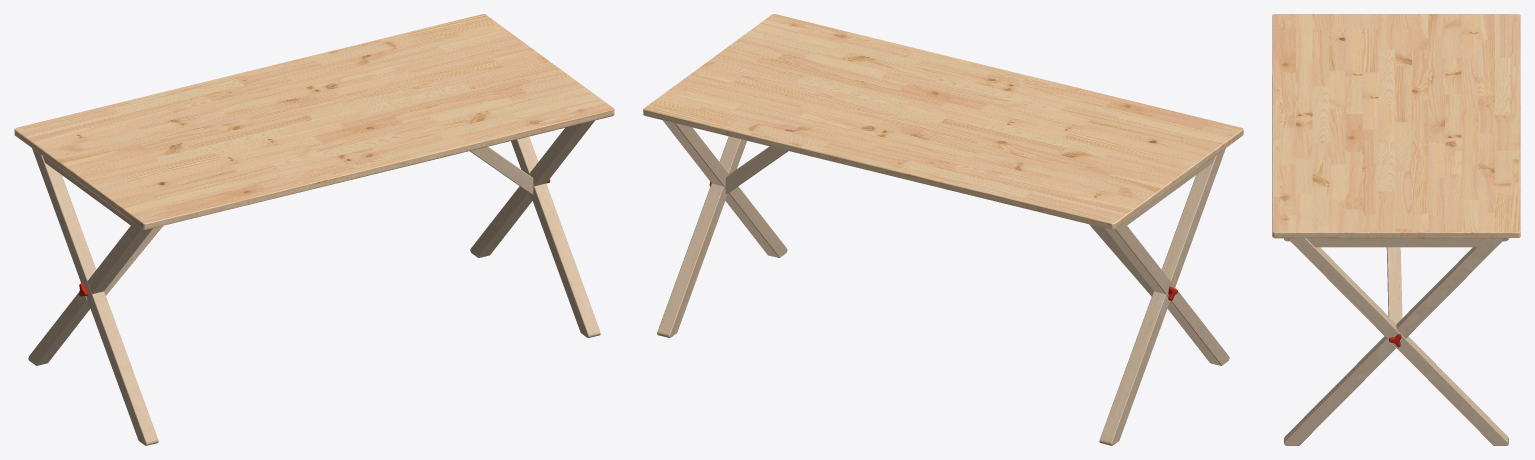
3 views of the same model, side by side, from view 1: azimuth 30°, elevation 25°; view 2: azimuth 150°, elevation 25°; view 3: azimuth 270°, elevation 25° (orthographic). The views are drawn at different scales.
Parts seen in each view (by area): view 1: ASY_ART_00617861_S01_NV01; view 2: ASY_ART_00617861_S01_NV01; view 3: ASY_ART_00617861_S01_NV01.
Part boxes in pixels (x1,y1,x2,y2): ASY_ART_00617861_S01_NV01: [14, 14, 614, 445]; ASY_ART_00617861_S01_NV01: [643, 14, 1243, 445]; ASY_ART_00617861_S01_NV01: [1272, 14, 1520, 445].
Bounding box in the file's own units: 1.56 × 0.7291 × 0.7501.
Materials: 2 (2 with a texture image).
